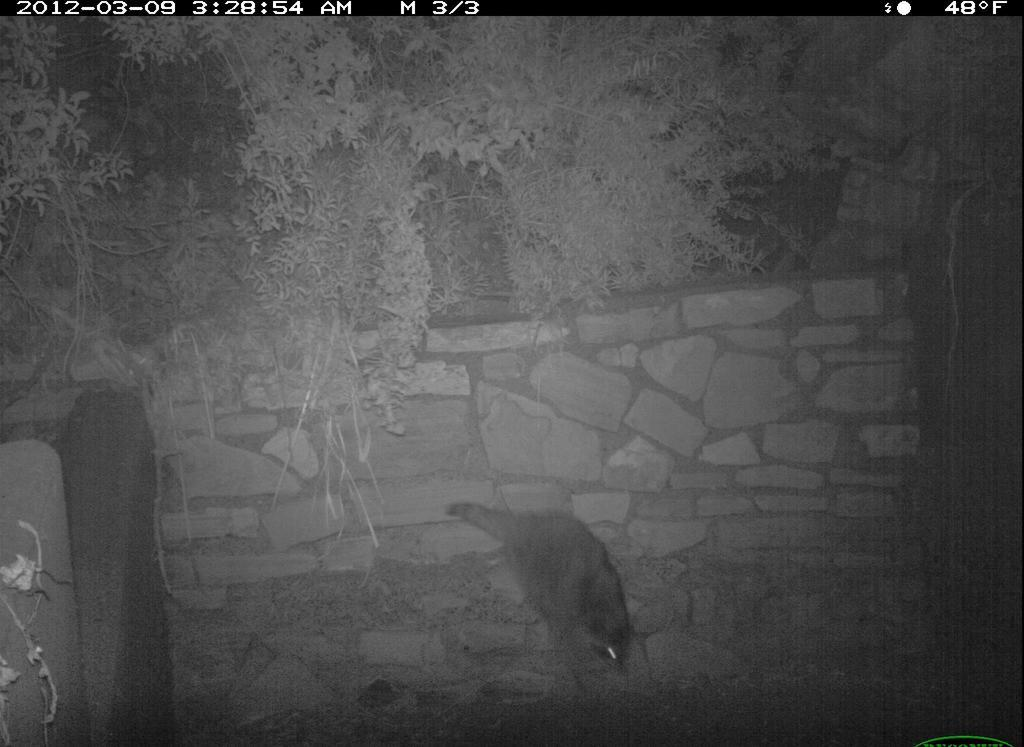raccoon: (437, 486, 642, 707)
